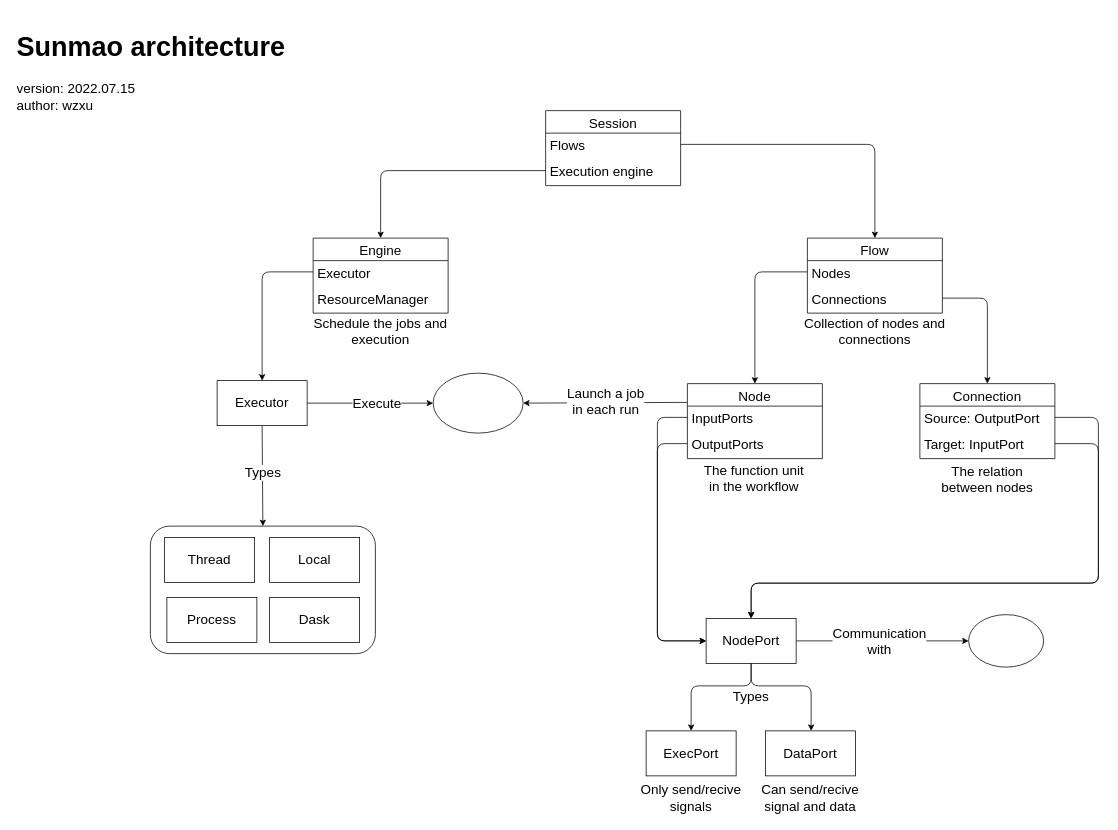
This 1118x830 diagram has some shape labels left out. Here are the shapes that lost their labels. From the top down, the centre of each, then its label:
At (x=477, y=402): "Job".
At (x=1006, y=640): "Activation Signal".
